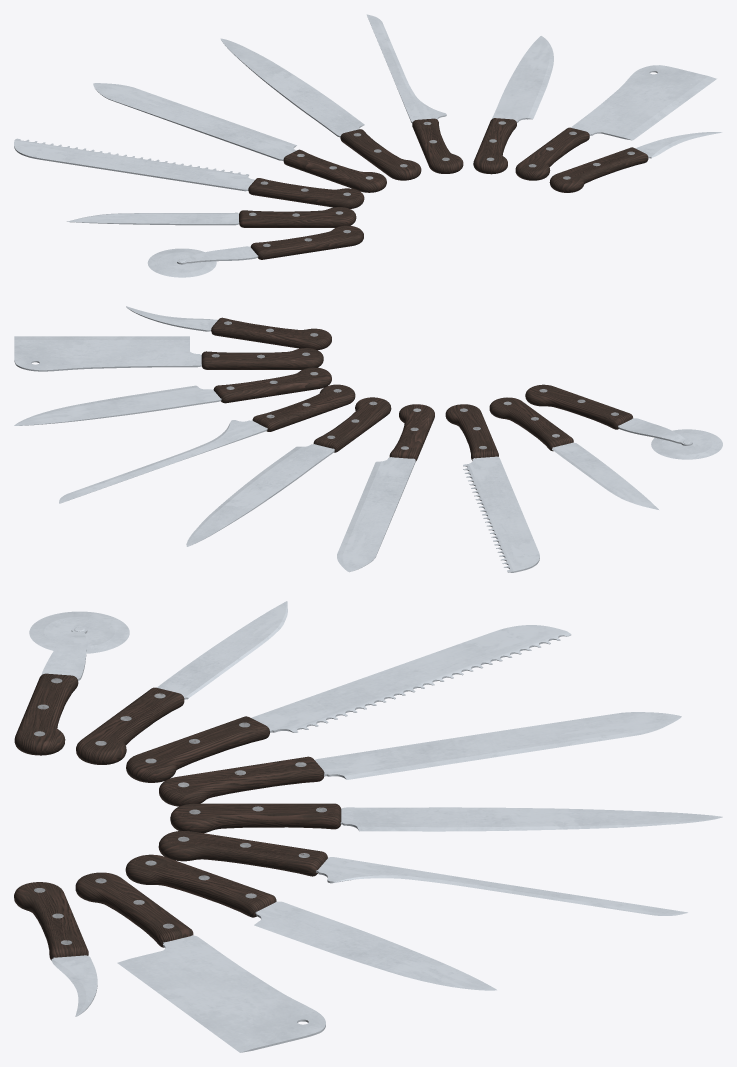
File: knife_collection.glb
The picture shows the model from 3 angles, top to bottom: view 1: azimuth 30°, elevation 25°; view 2: azimuth 150°, elevation 25°; view 3: azimuth 270°, elevation 25°; orthographic projection. The views are drawn at different scales.
Parts seen in each view (by area): view 1: knife 9, knife 8, knife 6, knife 5, knife 4, knife 1, knife 3, knife 7, knife 2; view 2: knife 9, knife 6, knife 8, knife 4, knife 5, knife 1, knife 7, knife 3, knife 2; view 3: knife 9, knife 6, knife 8, knife 5, knife 4, knife 7, knife 1, knife 3, knife 2.
Part boxes in pixels (x1,y1,x2,y2): knife 9: (515,65,716,180); knife 8: (14,138,364,208); knife 6: (93,83,386,192); knife 5: (220,38,421,180); knife 4: (473,36,553,174); knife 1: (147,225,363,277); knife 3: (67,207,356,227); knife 7: (366,14,463,173); knife 2: (549,132,722,192); knife 9: (14,336,323,371); knife 6: (337,404,434,572); knife 8: (445,404,539,572); knife 4: (14,367,331,425); knife 5: (186,397,391,546); knife 1: (525,384,722,459); knife 7: (59,384,355,503); knife 3: (489,397,658,509); knife 2: (126,306,331,350); knife 9: (75,872,325,1052); knife 6: (159,712,681,806); knife 8: (126,625,571,782); knife 5: (170,803,722,833); knife 4: (125,854,496,990); knife 7: (158,831,687,915); knife 1: (14,611,129,755); knife 3: (76,601,287,764); knife 2: (14,882,97,1016).
Bounding box in the file's own units: 1.51 × 0.0212 × 0.9993.
3 materials, 3 textured.
